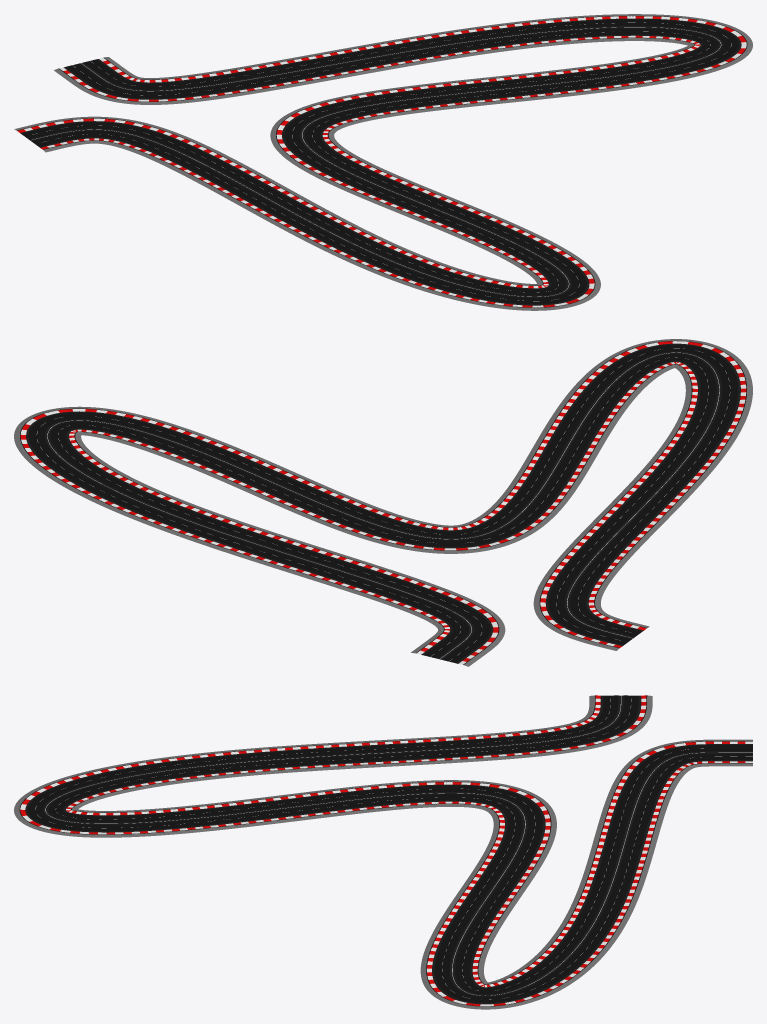
Rendered from S0.2l3-chikA.glb.
3 renders of one model, top to bottom at view 1: azimuth 30°, elevation 25°; view 2: azimuth 150°, elevation 25°; view 3: azimuth 270°, elevation 25°, orthographic. The views are drawn at different scales.
Parts seen in each view (by area): view 1: Grid.001; view 2: Grid.001; view 3: Grid.001.
Part boxes in pixels (bbox=[...]): Grid.001: bbox=[14, 14, 752, 310]; Grid.001: bbox=[14, 339, 752, 666]; Grid.001: bbox=[14, 695, 752, 1009].
Bounding box in the file's own units: 293 × 0.31 × 292.
